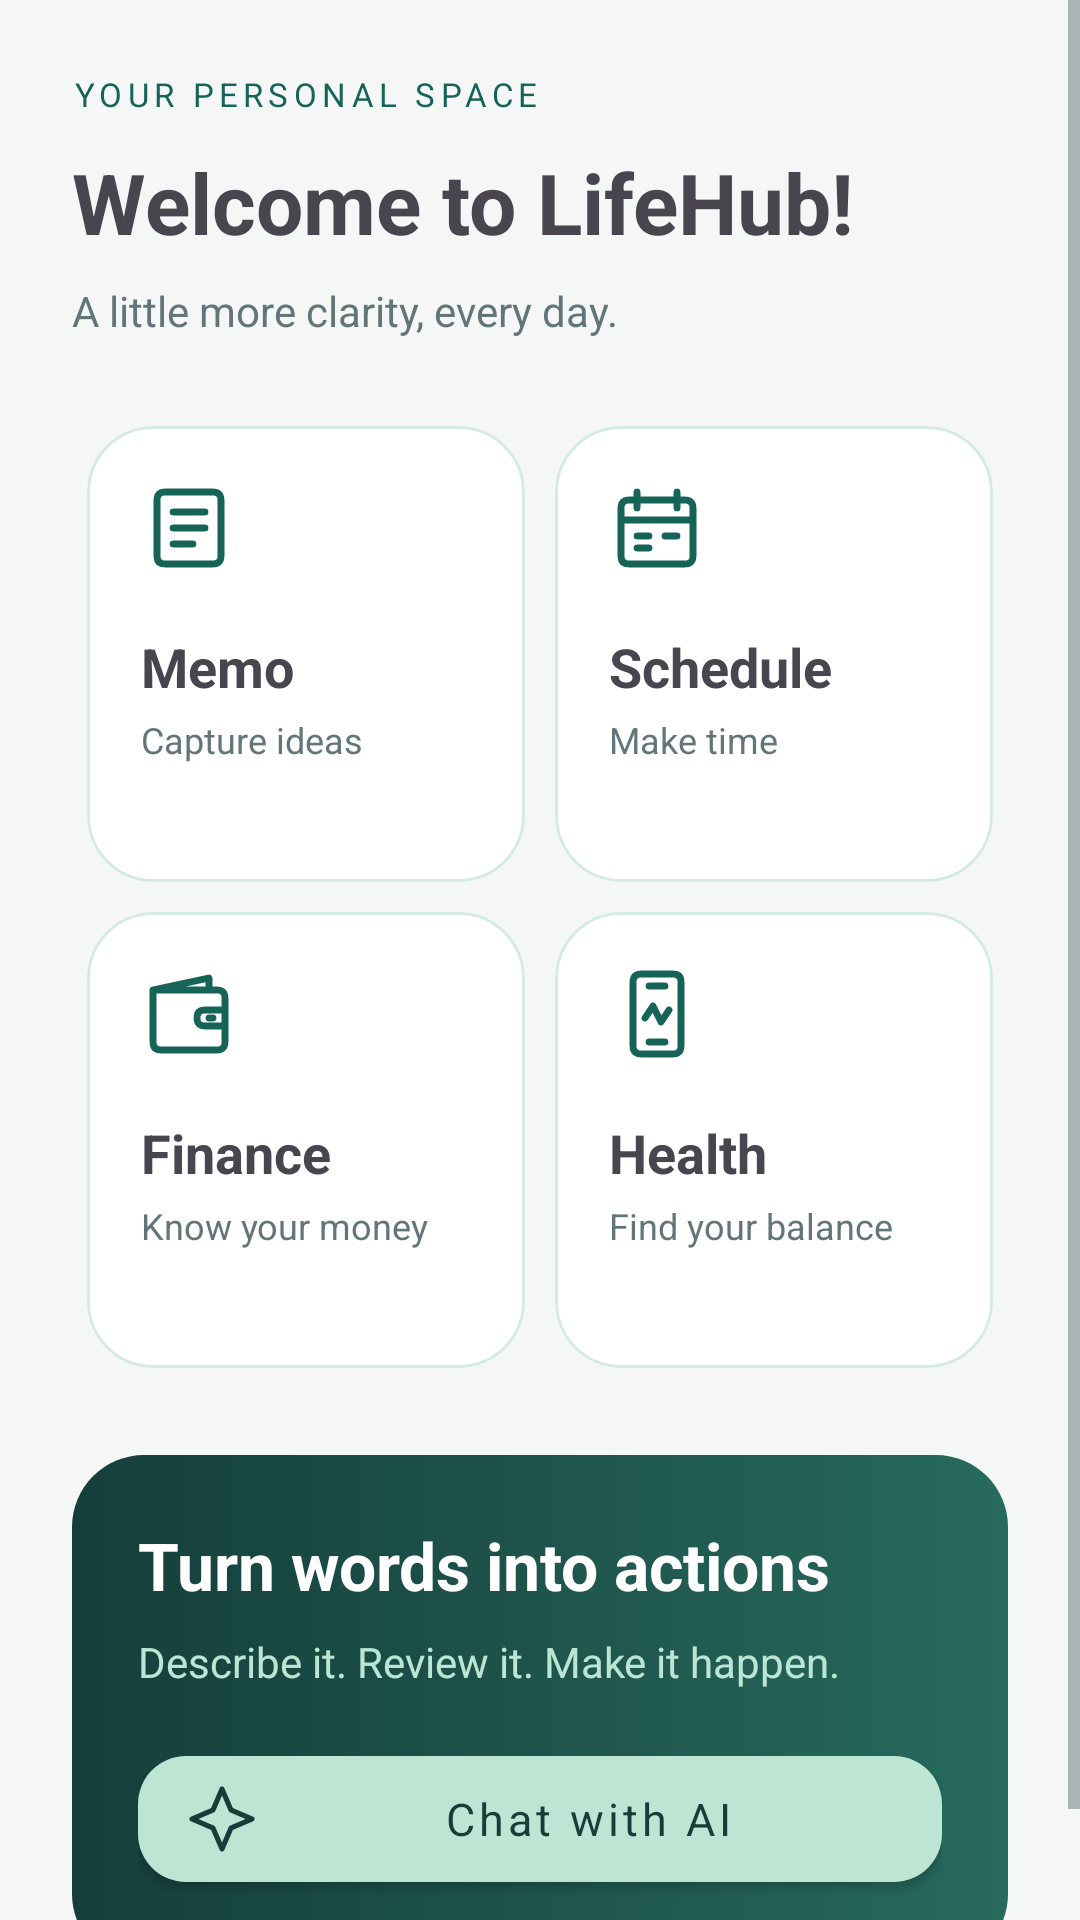

Named icons in this screenshot (1080 × 1920) and their centers, (x,y):
calendar: (657,528)
wallet: (189,1014)
